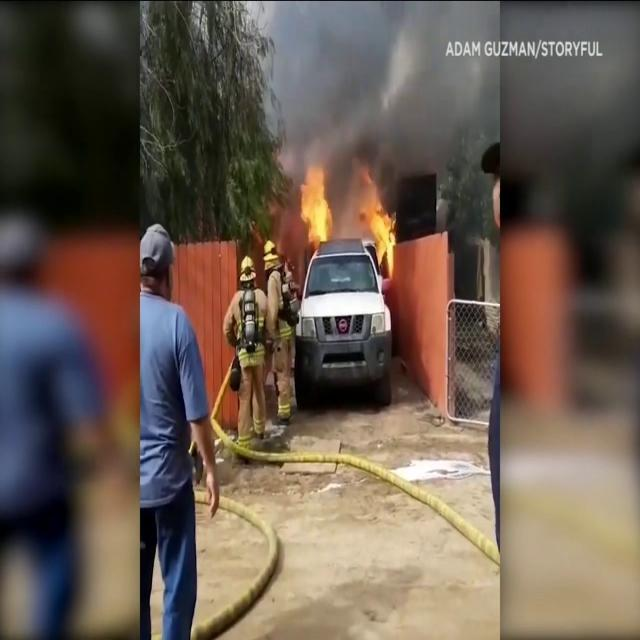Fire: (353, 174, 399, 276), (295, 162, 336, 250)
Smoke: (259, 2, 499, 190)
